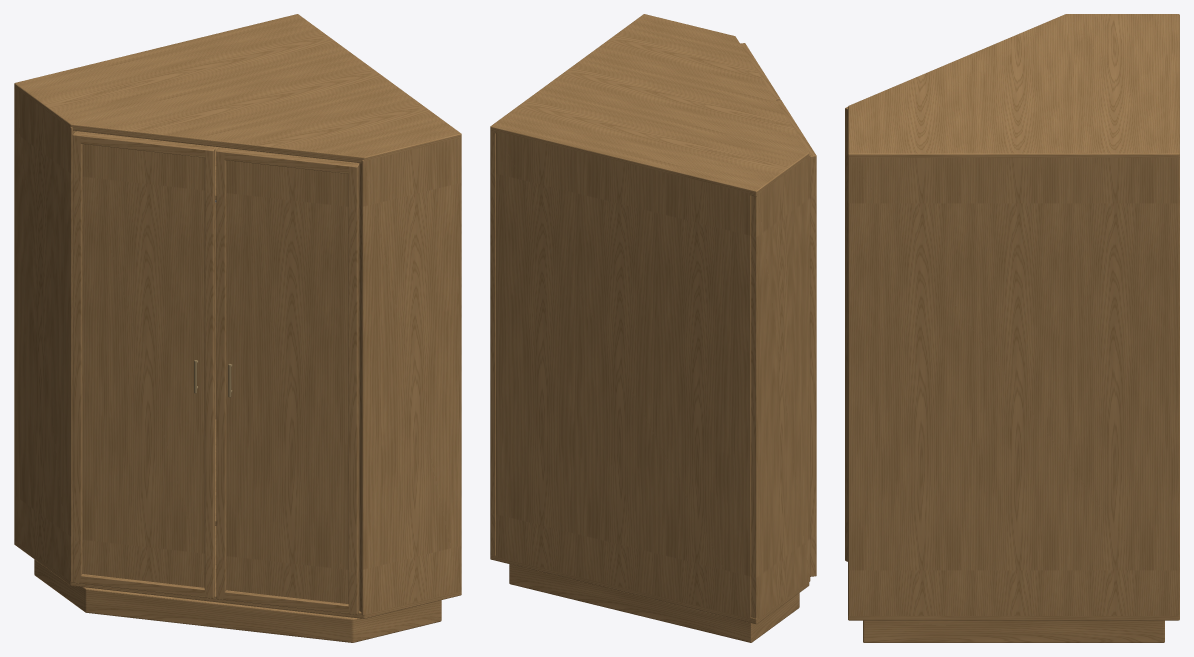
The model's file is angle-corner-wardrobe.glb.
3 renders of one model, left to right at view 1: azimuth 30°, elevation 25°; view 2: azimuth 150°, elevation 25°; view 3: azimuth 270°, elevation 25°, orthographic. The views are drawn at different scales.
Visible parts, largest first — view 1: Diagonal | framed door | inset panel.001, Diagonal | framed door | inset panel, Corner | right return, Corner | pentagonal panel.001, Corner | left return, Corner | recessed pentagonal plinth, Diagonal | framed door | stile.001, Diagonal | framed door | stile.003, Diagonal | framed door | stile, Diagonal | framed door | stile.002, Corner | pentagonal panel, Diagonal | framed door | rail.001 (+3 smaller); view 2: Corner | rear Y wall, Corner | pentagonal panel.001, Corner | left return, Corner | recessed pentagonal plinth, Diagonal | framed door | stile, Corner | rear X wall, Corner | pentagonal panel; view 3: Corner | rear X wall, Corner | pentagonal panel.001, Corner | recessed pentagonal plinth, Corner | pentagonal panel, Diagonal | framed door | stile.003.
Part boxes in pixels (x1,y1,x2,y2): Diagonal | framed door | inset panel.001: (226, 160, 348, 603); Diagonal | framed door | inset panel: (82, 144, 204, 587); Corner | right return: (359, 137, 460, 615); Corner | pentagonal panel.001: (14, 14, 461, 163); Corner | left return: (14, 87, 76, 582); Corner | recessed pentagonal plinth: (34, 559, 441, 642); Diagonal | framed door | stile.001: (204, 147, 215, 598); Diagonal | framed door | stile.003: (348, 163, 359, 614); Diagonal | framed door | stile: (72, 131, 82, 583); Diagonal | framed door | stile.002: (216, 148, 226, 599); Corner | pentagonal panel: (14, 526, 461, 618); Diagonal | framed door | rail.001: (80, 132, 207, 157); Corner | rear Y wall: (496, 131, 751, 618); Corner | pentagonal panel.001: (490, 14, 809, 196); Corner | left return: (751, 154, 810, 619); Corner | recessed pentagonal plinth: (509, 564, 799, 642); Diagonal | framed door | stile: (809, 153, 816, 576); Corner | rear X wall: (490, 130, 495, 555); Corner | pentagonal panel: (490, 554, 809, 624); Corner | rear X wall: (848, 157, 1179, 615); Corner | pentagonal panel.001: (848, 14, 1179, 159); Corner | recessed pentagonal plinth: (863, 620, 1164, 642); Corner | pentagonal panel: (848, 615, 1179, 620); Diagonal | framed door | stile.003: (845, 107, 847, 561).
Bounding box in the file's own units: 1.28 × 2.09 × 1.28.
Materials: 3 (1 with a texture image).
